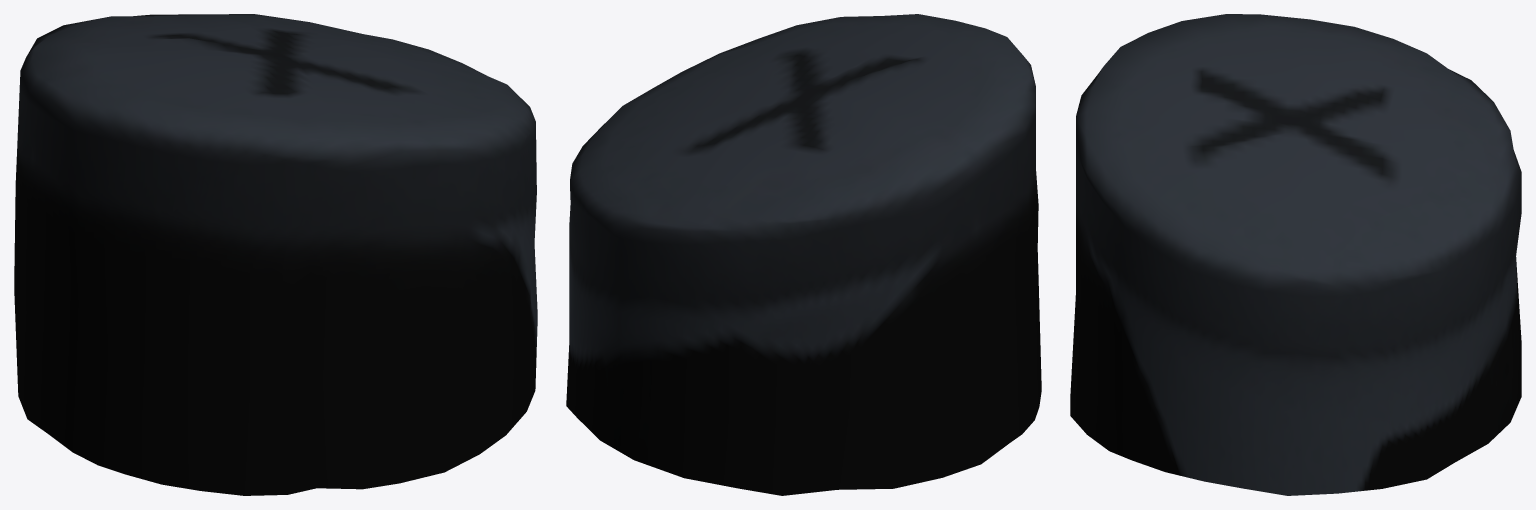
The model's file is left_x_button.obj.
3 views of the same model, side by side, from view 1: azimuth 30°, elevation 25°; view 2: azimuth 150°, elevation 25°; view 3: azimuth 270°, elevation 25° (orthographic). The views are drawn at different scales.
Visible parts, largest first — view 1: left_x_button; view 2: left_x_button; view 3: left_x_button.
Boxes of the visible parts, x1,y1,x2,y2 form: left_x_button: (14, 14, 537, 495); left_x_button: (566, 14, 1041, 495); left_x_button: (1070, 14, 1521, 495).
Bounding box in the file's own units: 0.0081 × 0.006 × 0.0081.
Materials: 1 (1 with a texture image).
